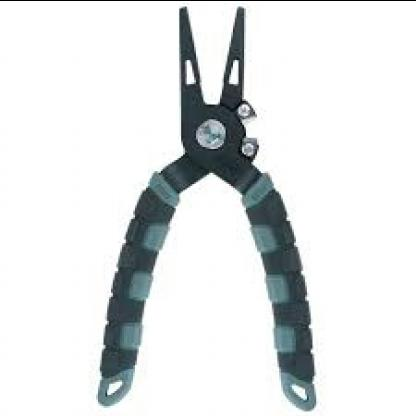Pliers: (90, 0, 322, 414)
